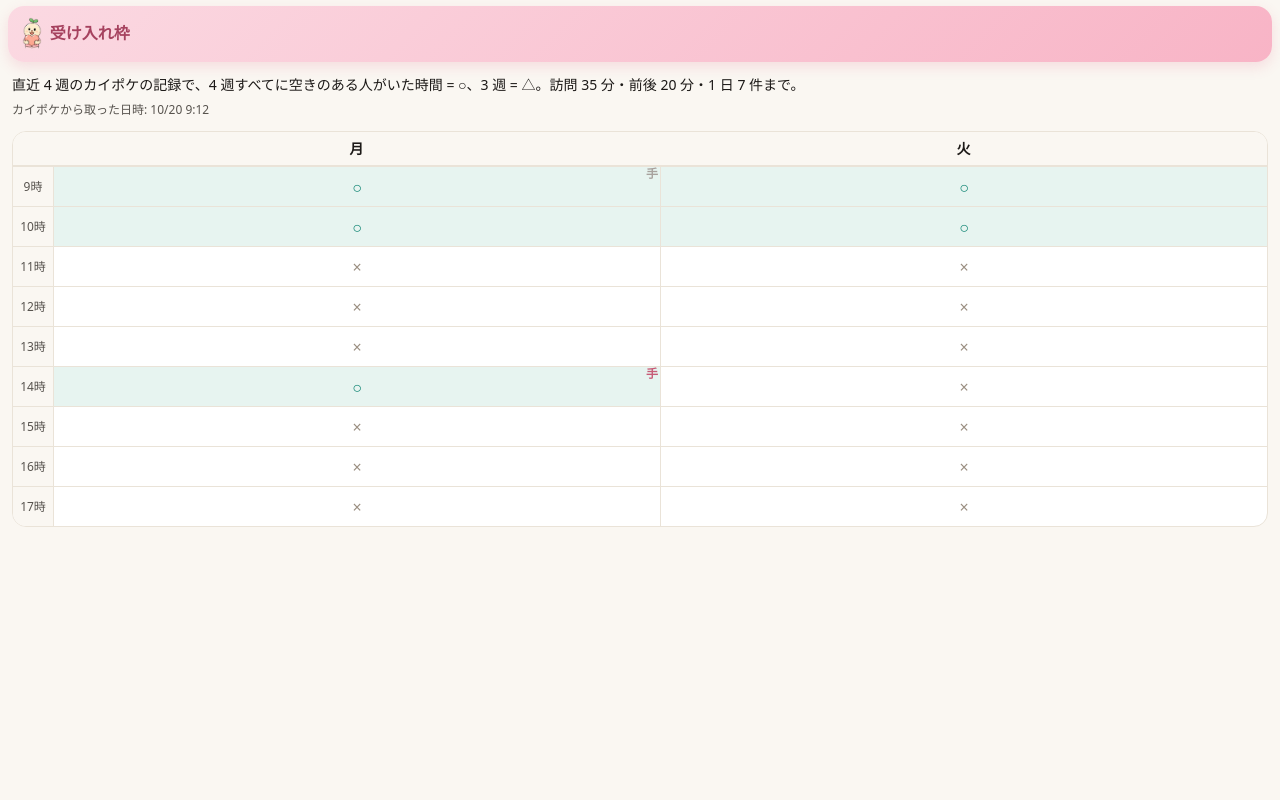
Test: AcceptanceFieldView › マスを押すと内訳を下に開く
Click the button named "月曜 9時台": [356, 186] box [53,166,660,206]
(page scrolled)
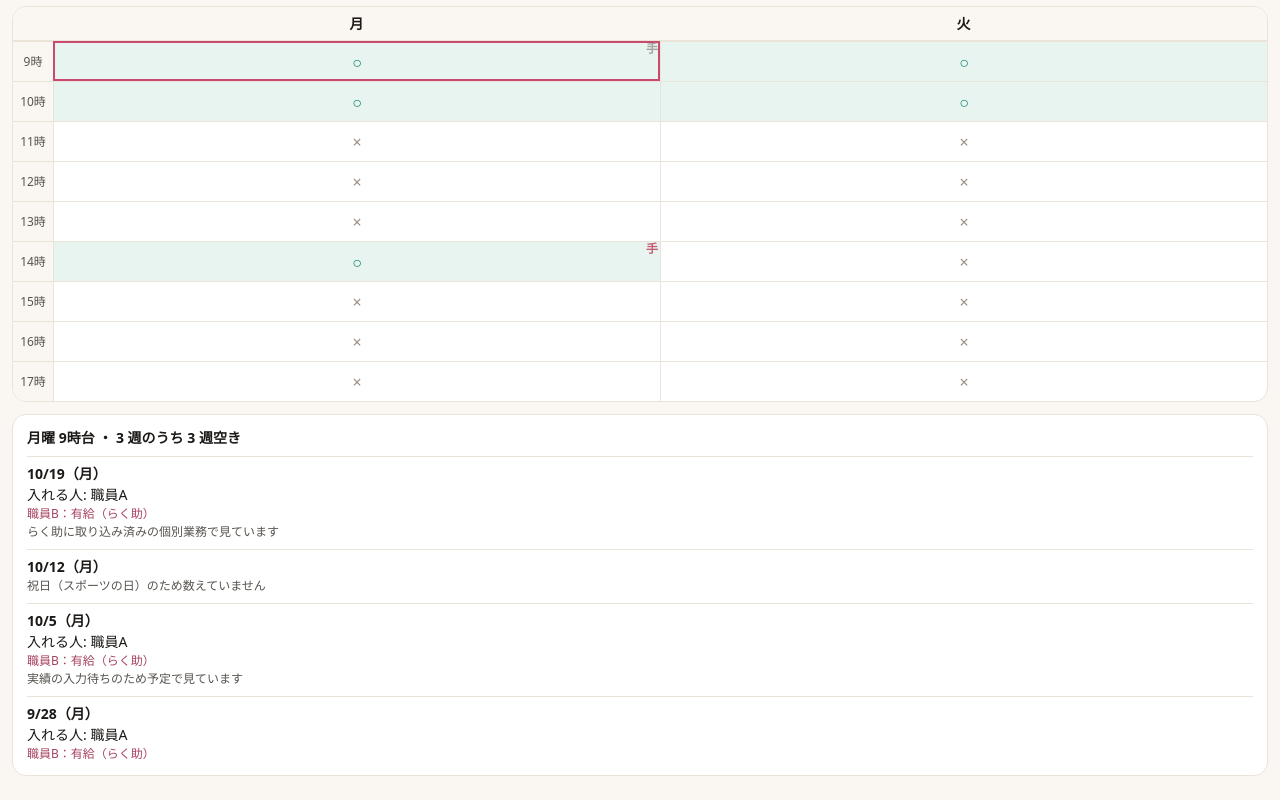
Expected: the element named "マスの内訳" shows "入れる人: 職員A", [27,485,127,504]
Expected: the element named "マスの内訳" shows "祝日（スポーツの日）のため数えていません", [27,577,266,594]
